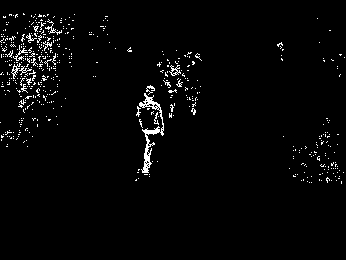person: (137, 85, 164, 176)
